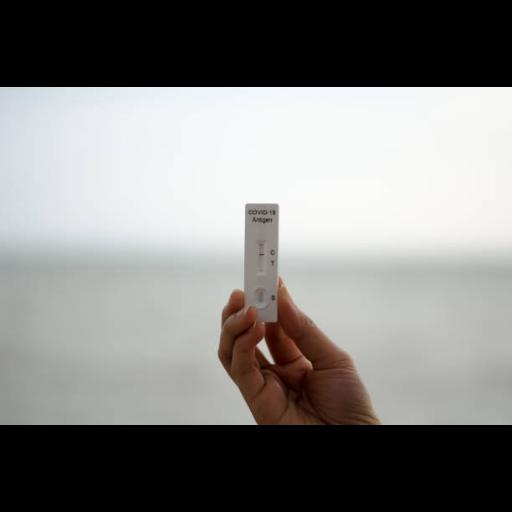Neg: (244, 204, 278, 320)
